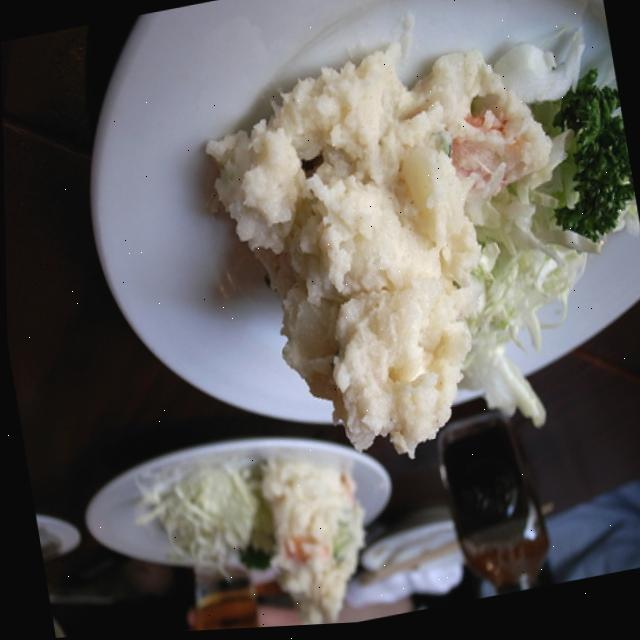蔬菜料理: (60, 166, 477, 553), (59, 492, 293, 638)
